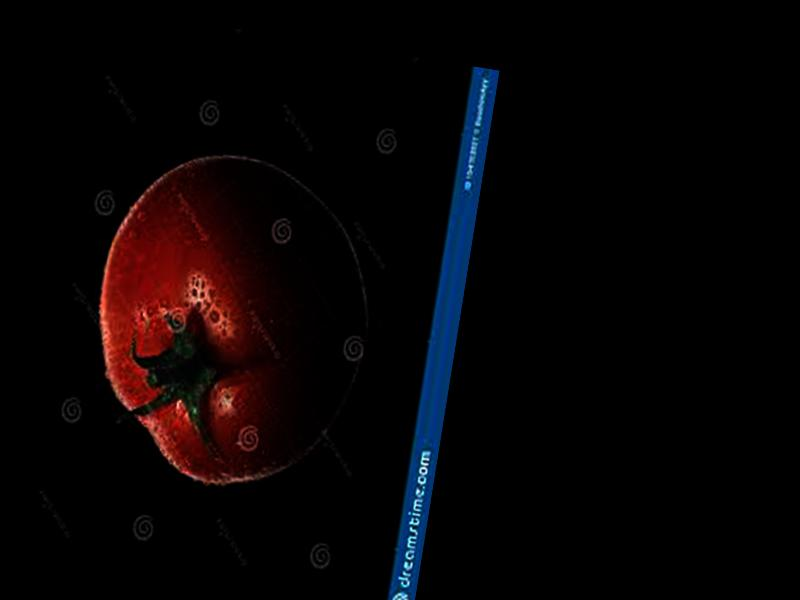Tomato: (72, 135, 389, 505)
